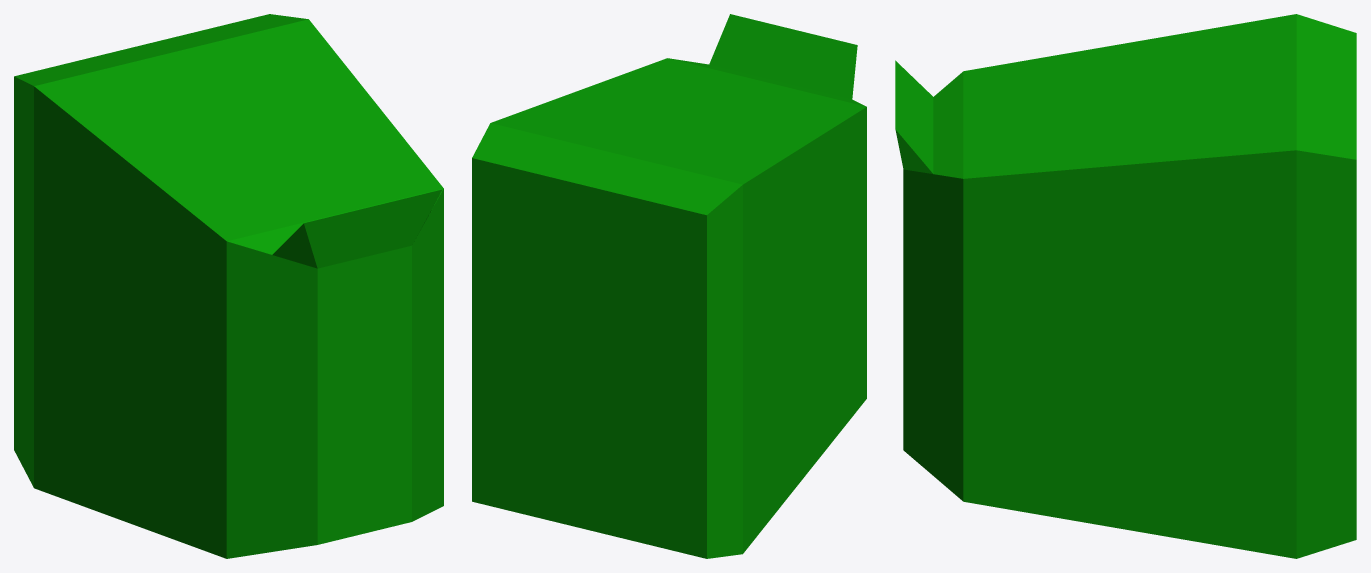
File: MixedGreensBag.obj
3 renders of one model, left to right at view 1: azimuth 30°, elevation 25°; view 2: azimuth 150°, elevation 25°; view 3: azimuth 270°, elevation 25°, orthographic. The views are drawn at different scales.
Parts seen in each view (by area): view 1: bag.000_bag.000; view 2: bag.000_bag.000; view 3: bag.000_bag.000.
Boxes of the visible parts, left/top/right/bottom form: bag.000_bag.000: left=14, top=14, right=443, bottom=558; bag.000_bag.000: left=472, top=14, right=866, bottom=558; bag.000_bag.000: left=895, top=14, right=1356, bottom=558.
Size of the model in its own units: 0.1101 by 0.1539 by 0.1574.
